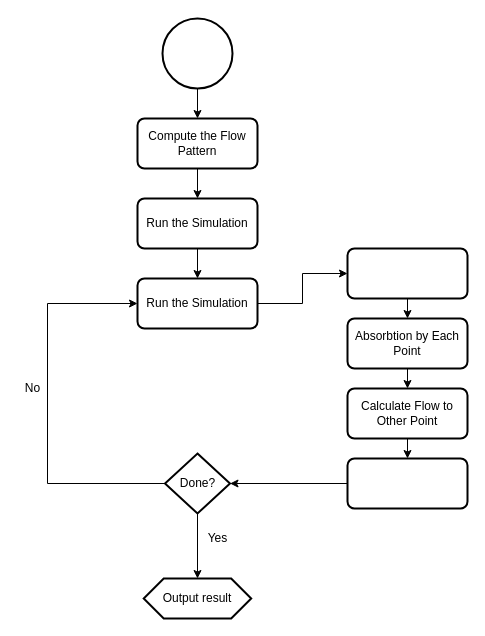
Some shapes in this 485 by 636 pixel diagram are drawn without their labels. Here are the shapes that lost their labels. From the top down, the centre of each, then its label:
point (197, 53): Input Data
point (407, 273): Add New Rain Drop
point (407, 483): Add the Leak with Current Water Level
